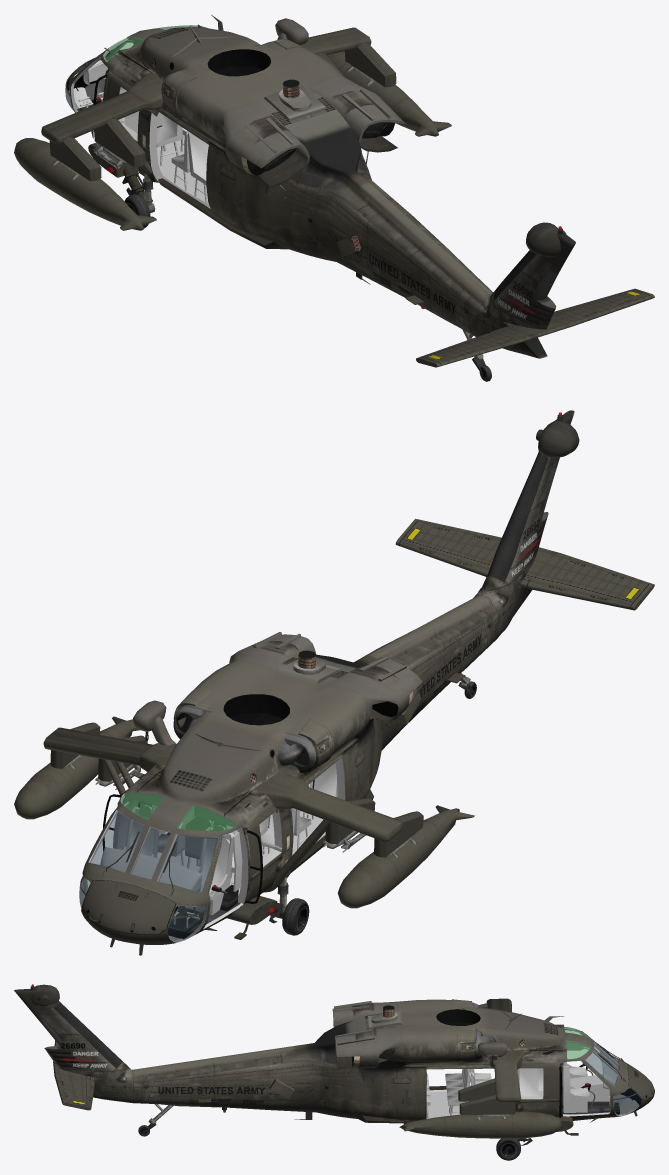
Rendered from helicopter_base.obj.
The picture shows the model from 3 angles, top to bottom: view 1: azimuth 30°, elevation 25°; view 2: azimuth 150°, elevation 25°; view 3: azimuth 270°, elevation 25°; orthographic projection. The views are drawn at different scales.
Parts seen in each view (by area): view 1: fuselage.001, elevator.001; view 2: fuselage.001, elevator.001, Tyre_L.001; view 3: fuselage.001, elevator.001, tyre_R.001.
Part boxes in pixels (bbox=[...]): fuselage.001: bbox=[14, 14, 575, 375]; elevator.001: bbox=[416, 288, 654, 367]; fuselage.001: bbox=[14, 410, 579, 955]; elevator.001: bbox=[395, 518, 654, 610]; Tyre_L.001: bbox=[282, 898, 309, 935]; fuselage.001: bbox=[14, 984, 654, 1145]; elevator.001: bbox=[53, 1040, 94, 1110]; tyre_R.001: bbox=[496, 1138, 520, 1160].
Bounding box in the file's own units: 59.09 × 37.77 × 138.
